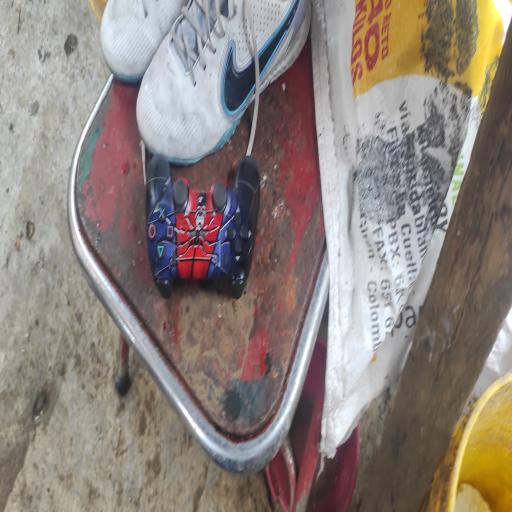ControlPlay4: (146, 155, 260, 298)
